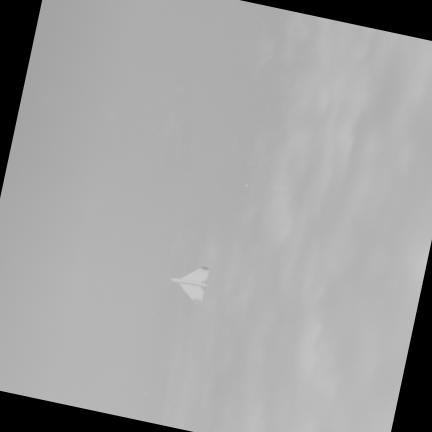Shahed: (170, 266, 208, 303)
